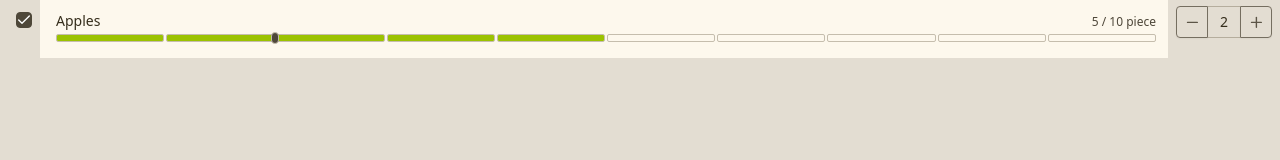
it: ItemCard - loading states › shows spinner on shopping overlay plus button (Increase quantity) while isPending is true
Click the button named "Increase quantity of Apples": (1256, 22) [1240, 6, 1272, 38]
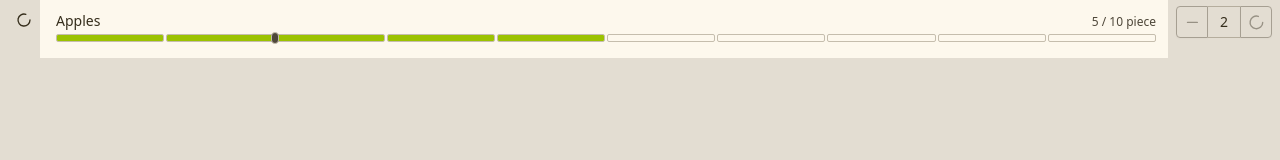
Result: the 2nd icon with class "animate-spin" is shown at [1248, 14, 1264, 30]
